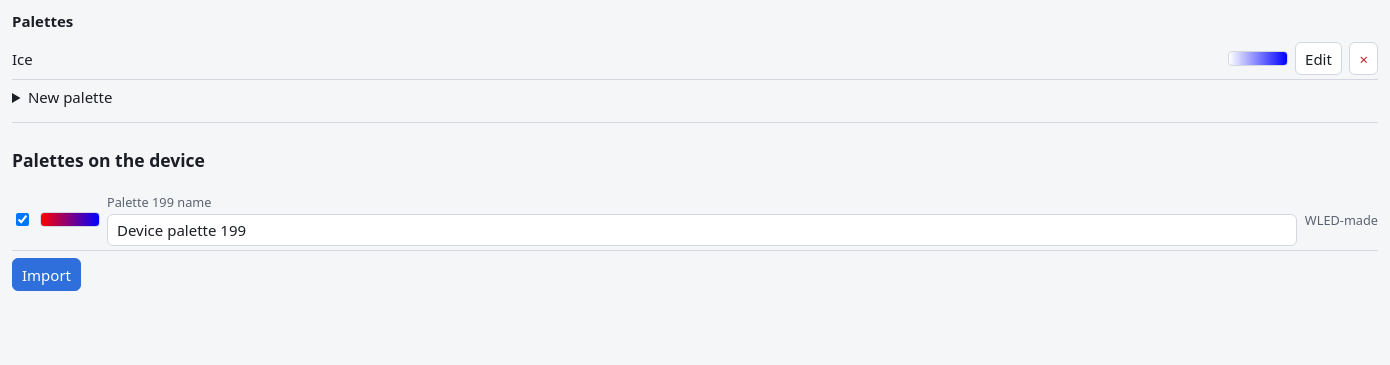
Test case: asks before replacing a library palette during device import
This screenshot has width=1390, height=365.
Later steps or results of the test are not shown.
Replace the text in the field named "Name for palette 199" with "Ice" at [702, 230], box [107,214,1297,246]
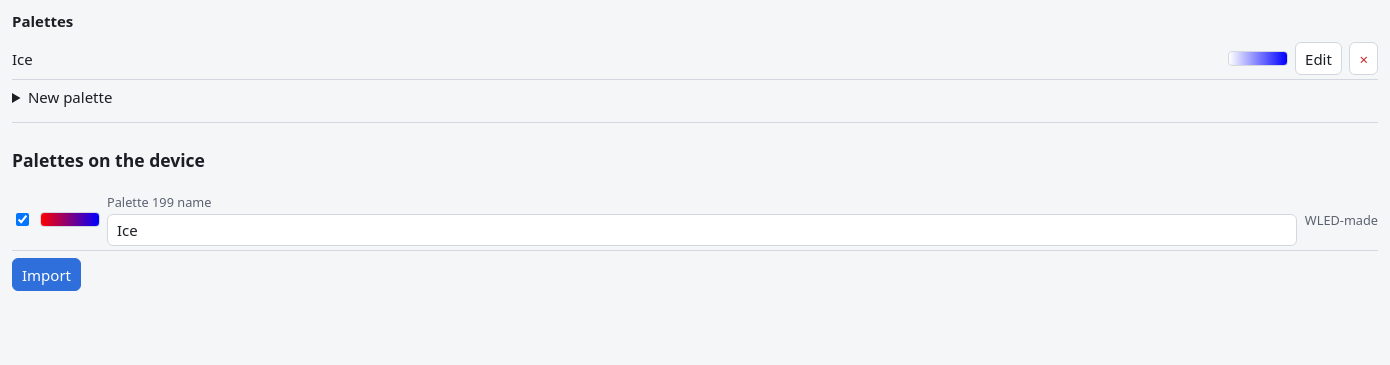
Click the button "Import".
click(46, 275)  # box [12,258,81,291]
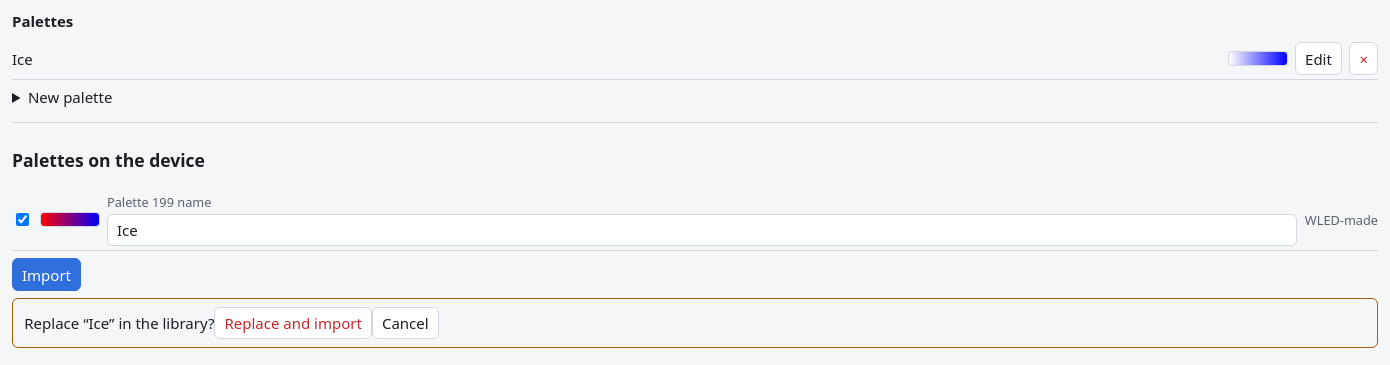
Now the element named "Replace existing palettes?" shows "Replace “Ice” in the library?", box [12,298,1378,348]
